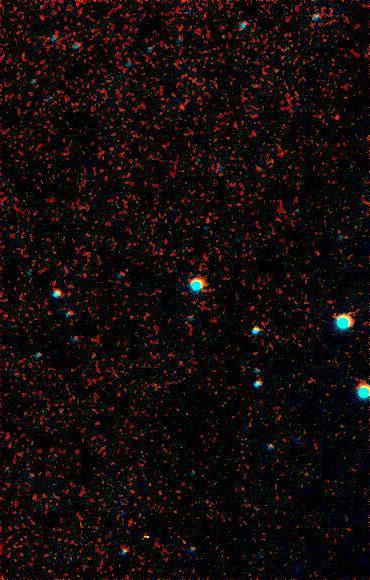star: (323, 103, 353, 133)
